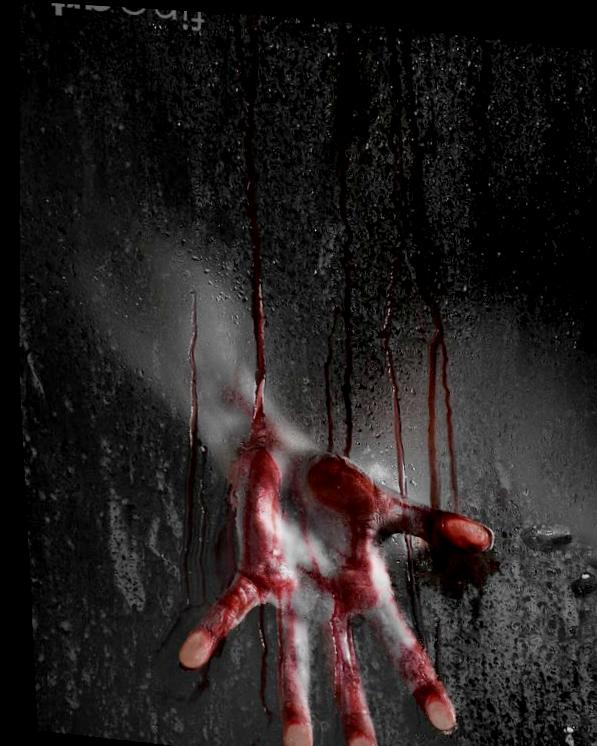Fire: (145, 11, 493, 746)
